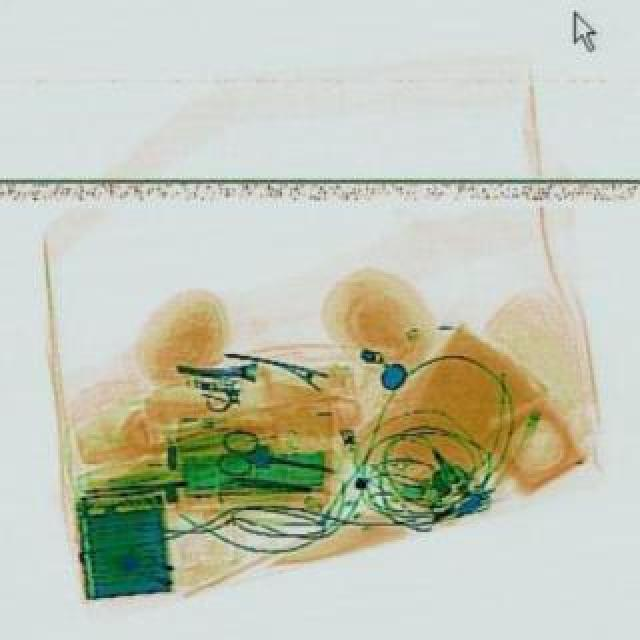pliers: (212, 424, 340, 492)
